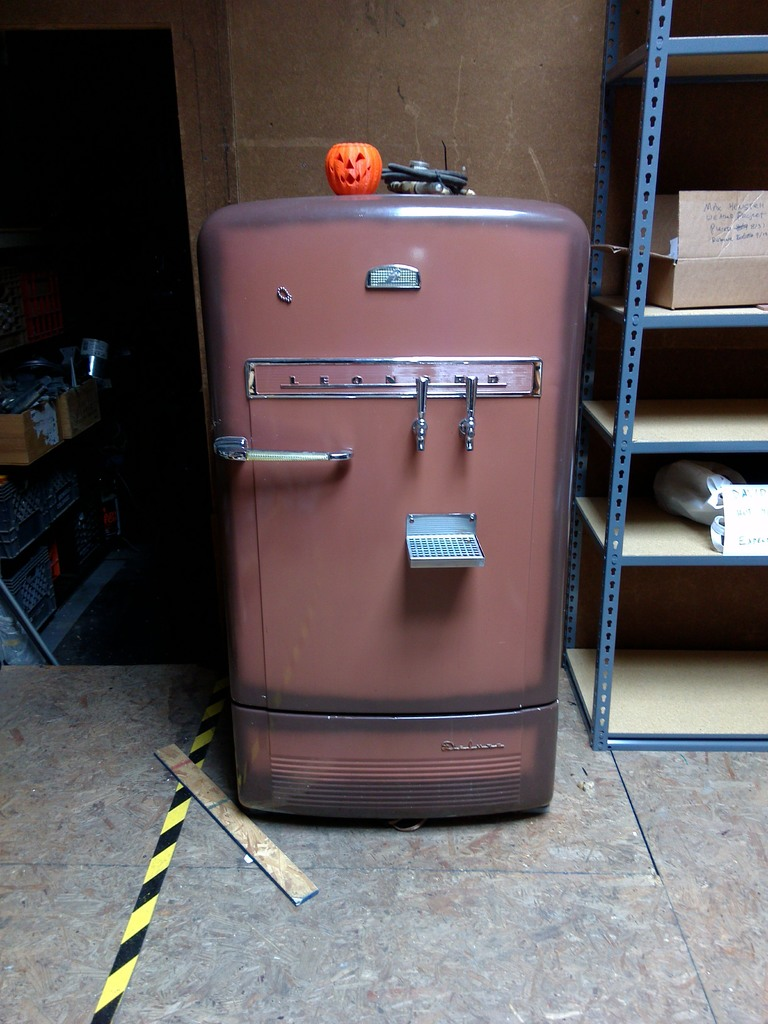handle: (217, 428, 362, 488)
refrigerator door: (248, 357, 533, 707)
